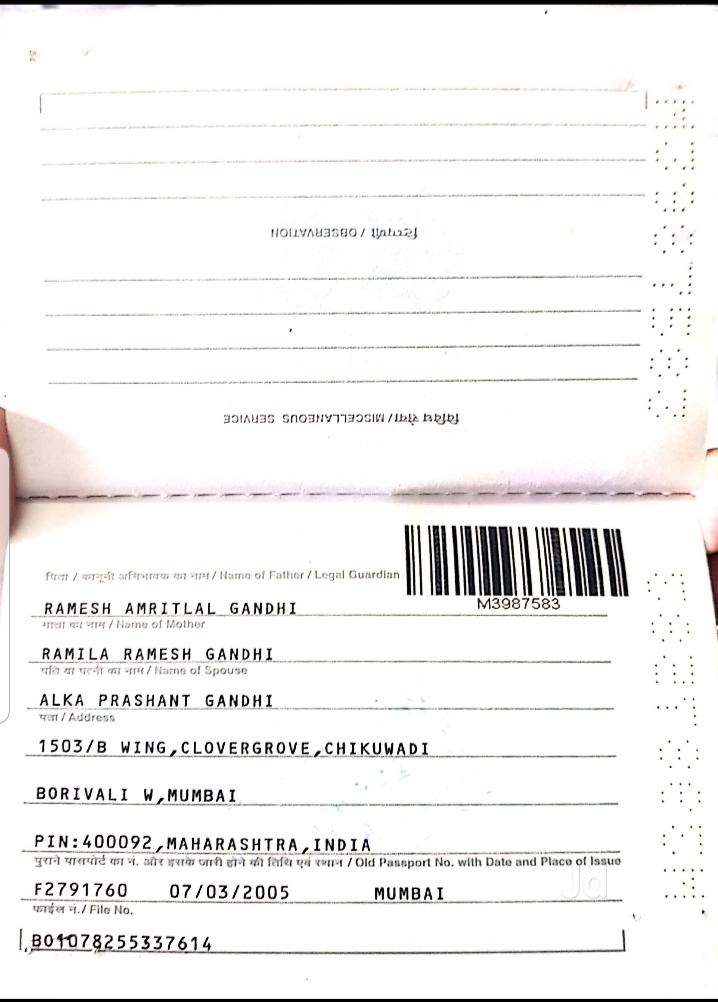File_no: (22, 927, 215, 956)
address: (31, 732, 446, 859)
father_name: (34, 590, 313, 629)
mother_name: (32, 638, 283, 673)
old_passport_details: (28, 866, 474, 911)
passport_no: (470, 592, 567, 616)
spouse_name: (24, 678, 292, 713)
